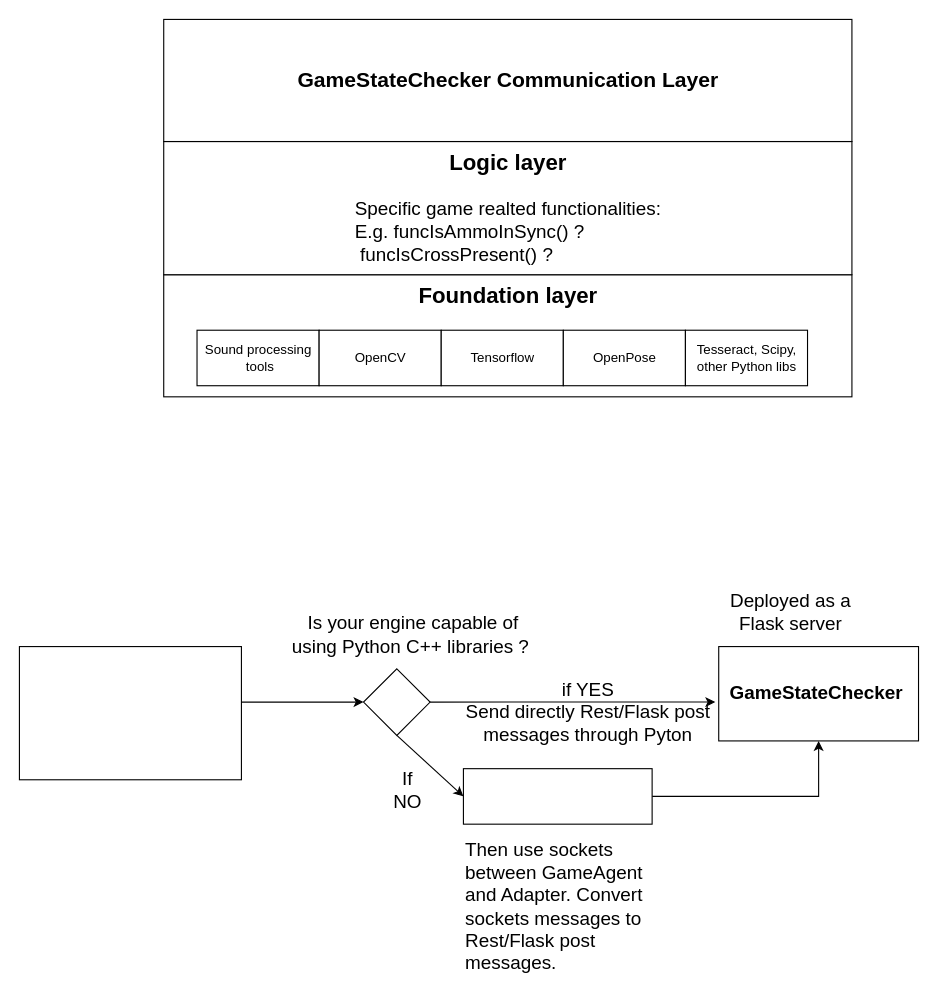
The diagram is 938 pixels wide and 995 high, and some of its shapes have lost their labels. The centre of each missing label's shape, as x and y in pixels:
"GameAgent C++ code (possibly running on consoles/ PC)" goes at (x=129, y=712).
"GameAgentAdapter" goes at (x=557, y=796).
